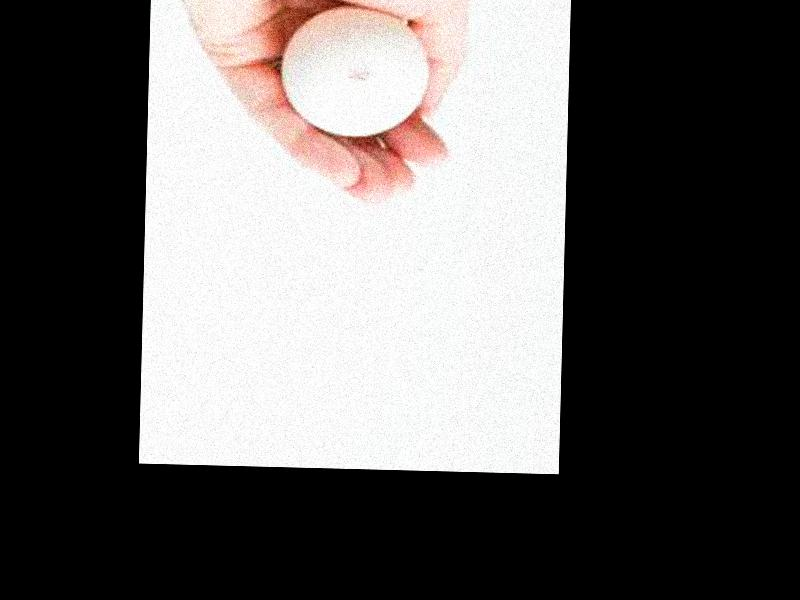Eggs: (282, 6, 425, 138)
